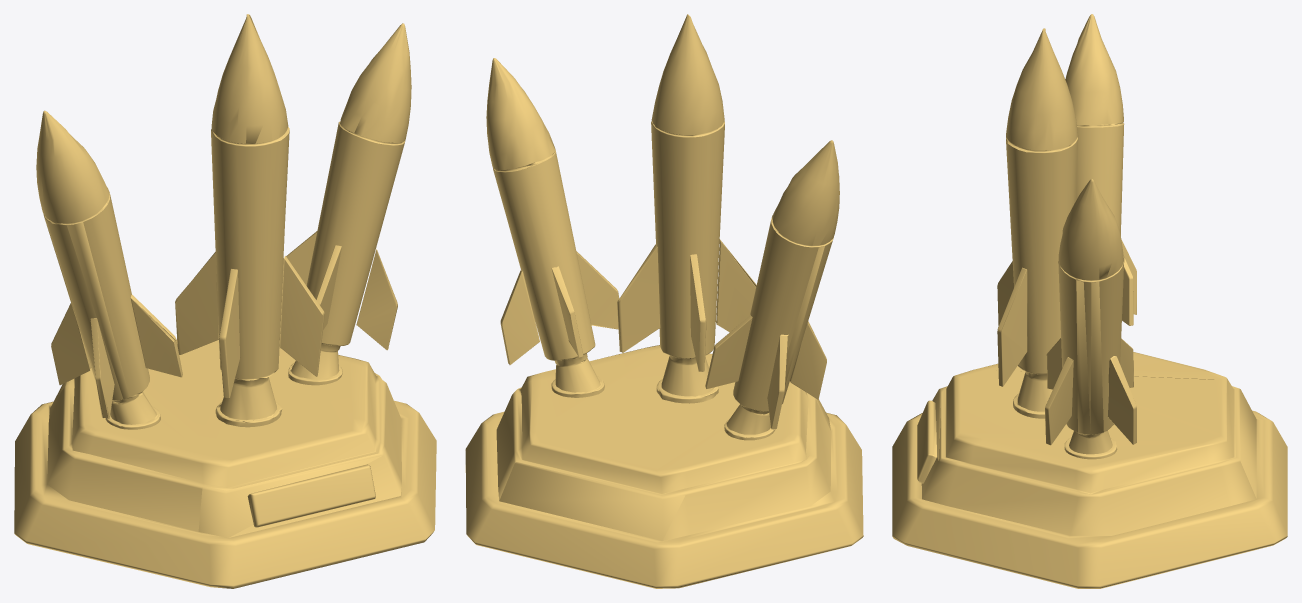
File: golden_roket.glb
3 renders of one model, left to right at view 1: azimuth 30°, elevation 25°; view 2: azimuth 150°, elevation 25°; view 3: azimuth 270°, elevation 25°, orthographic. The views are drawn at different scales.
Visible parts, largest first — view 1: golden_roket_AO_candidate; view 2: golden_roket_AO_candidate; view 3: golden_roket_AO_candidate.
Boxes of the visible parts, left/top/right/bottom form: golden_roket_AO_candidate: left=14, top=14, right=436, bottom=588; golden_roket_AO_candidate: left=465, top=14, right=863, bottom=588; golden_roket_AO_candidate: left=892, top=14, right=1287, bottom=588.
Size of the model in its own units: 0.8716 by 1 by 0.7688.
